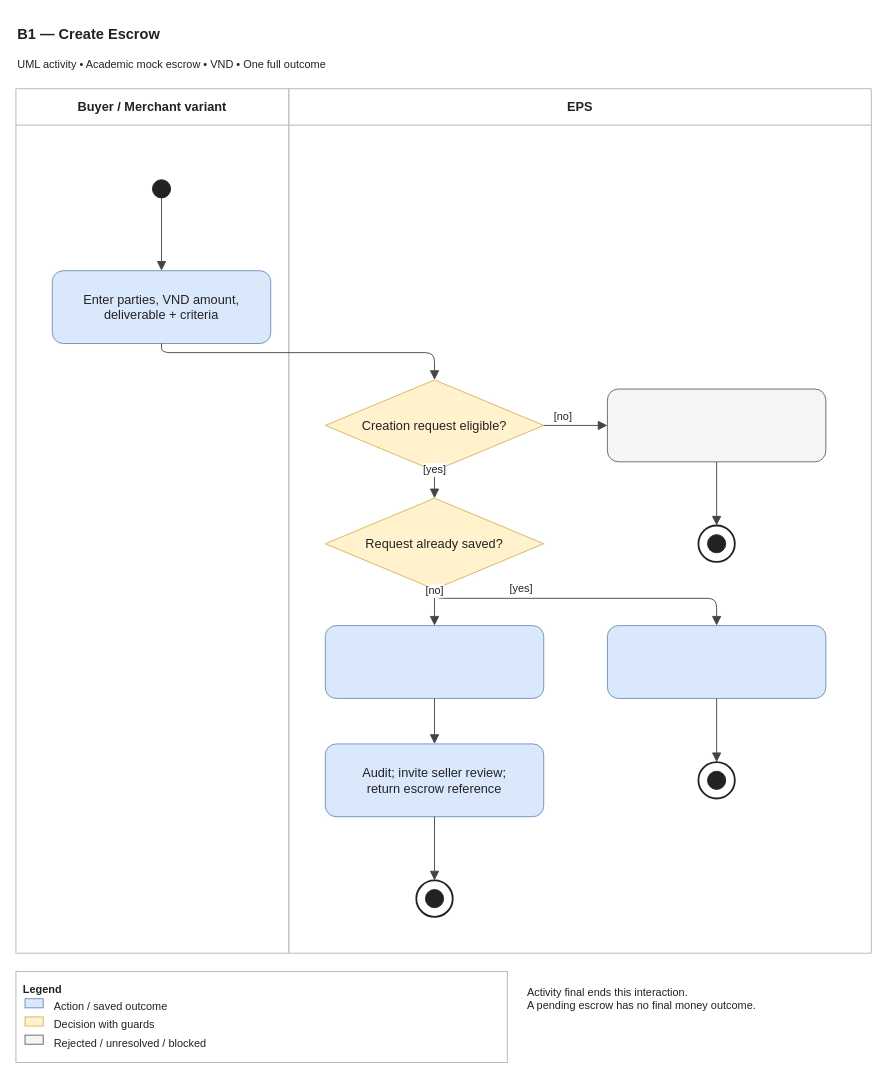
Image size: 887x1078. Some labels were removed from this diagram. The shapes that lost their labels are listed below. From the top down, each one's box as (x1, y1, x2, y2) in pixels, then its label:
(607, 388, 826, 462): Reject invalid scope / terms or reference conflict
(324, 625, 544, 698): Save AWAITING_SELLER; capture policy + client
(607, 625, 826, 698): Return existing escrow; create no duplicate
